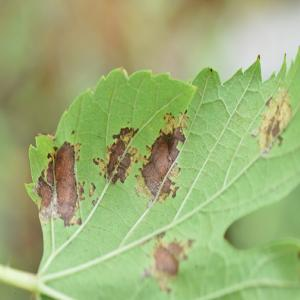Folha: (25, 46, 299, 299)
Fungo: (34, 109, 188, 227), (139, 109, 188, 203), (35, 140, 80, 226), (141, 232, 195, 293), (92, 126, 142, 184), (252, 85, 292, 156), (34, 146, 57, 222), (106, 138, 131, 184), (35, 174, 53, 208), (78, 180, 84, 200), (88, 182, 96, 196), (92, 196, 98, 206)
